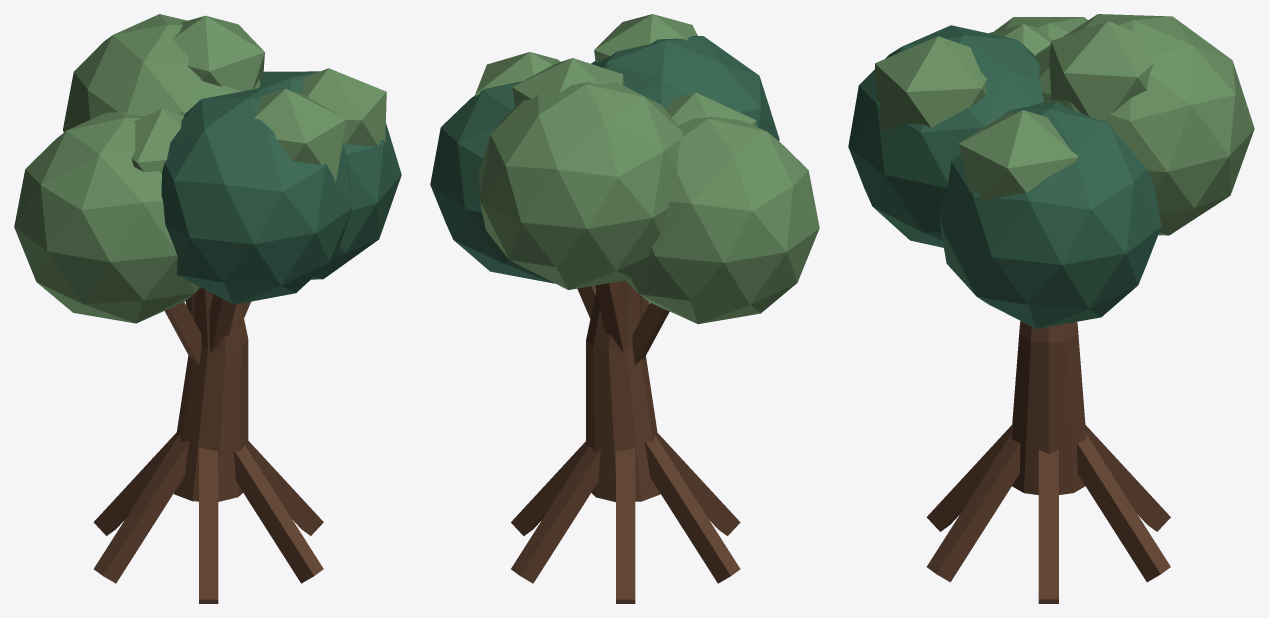
File: PirateCove_Mangrove_Showcase.glb
3 renders of one model, left to right at view 1: azimuth 30°, elevation 25°; view 2: azimuth 150°, elevation 25°; view 3: azimuth 270°, elevation 25°, orthographic. The views are drawn at different scales.
Parts seen in each view (by area): view 1: PirateCove_Mangrove_Showcase; view 2: PirateCove_Mangrove_Showcase; view 3: PirateCove_Mangrove_Showcase.
Boxes of the visible parts, x1,y1,x2,y2 form: PirateCove_Mangrove_Showcase: (14, 14, 401, 603); PirateCove_Mangrove_Showcase: (430, 14, 819, 603); PirateCove_Mangrove_Showcase: (848, 14, 1254, 603).
Bounding box in the file's own units: 2.6 × 3.55 × 2.39.
